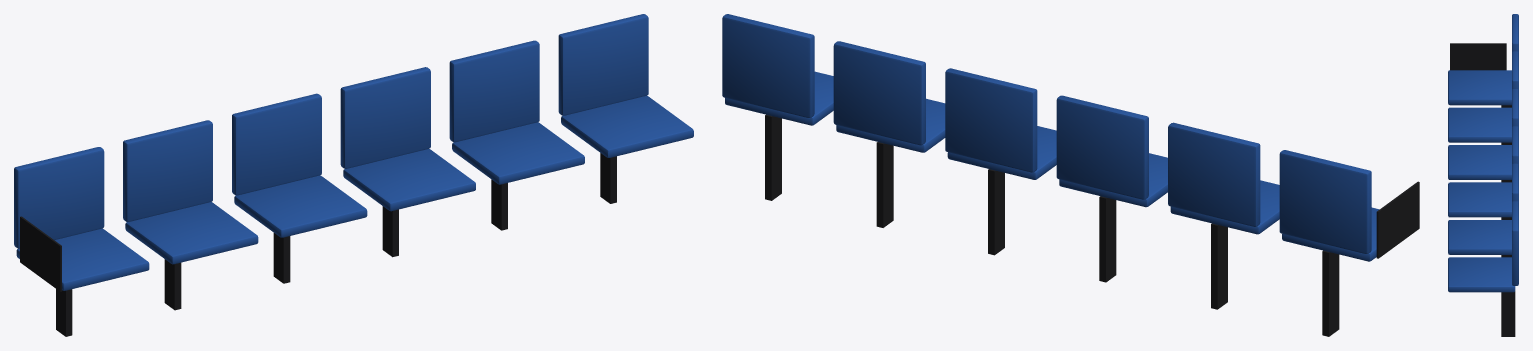
File: SeatRow.glb
3 views of the same model, side by side, from view 1: azimuth 30°, elevation 25°; view 2: azimuth 150°, elevation 25°; view 3: azimuth 270°, elevation 25° (orthographic). The views are drawn at different scales.
Parts seen in each view (by area): view 1: SeatRow; view 2: SeatRow; view 3: SeatRow.
Part boxes in pixels (x1,y1,x2,y2): SeatRow: [14, 14, 693, 336]; SeatRow: [722, 14, 1419, 336]; SeatRow: [1448, 14, 1518, 336].
Size of the model in its own units: 2.91 by 0.75 by 0.4.
Materials: 2 (2 with a texture image).
